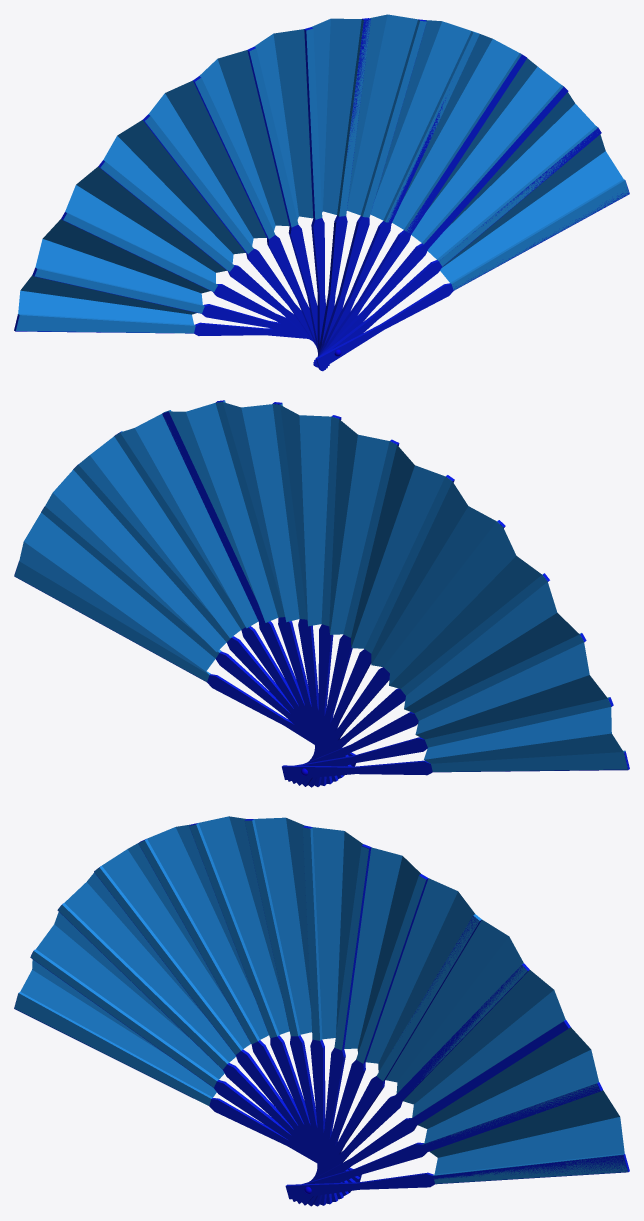
Rendered from HANDFAN1.fbx.
3 renders of one model, top to bottom at view 1: azimuth 30°, elevation 25°; view 2: azimuth 150°, elevation 25°; view 3: azimuth 330°, elevation 25°, orthographic. The views are drawn at different scales.
Visible parts, largest first — view 1: Plane.001, Plane.002; view 2: Plane.001, Plane.002; view 3: Plane.001, Plane.002.
Boxes of the visible parts, left/top/right/bottom form: Plane.001: left=16, top=14, right=629, bottom=333; Plane.002: left=14, top=18, right=629, bottom=371; Plane.001: left=14, top=400, right=627, bottom=771; Plane.002: left=14, top=400, right=629, bottom=787; Plane.001: left=14, top=816, right=627, bottom=1183; Plane.002: left=14, top=819, right=629, bottom=1206.
Size of the model in its own units: 488 by 269 by 49.34.
